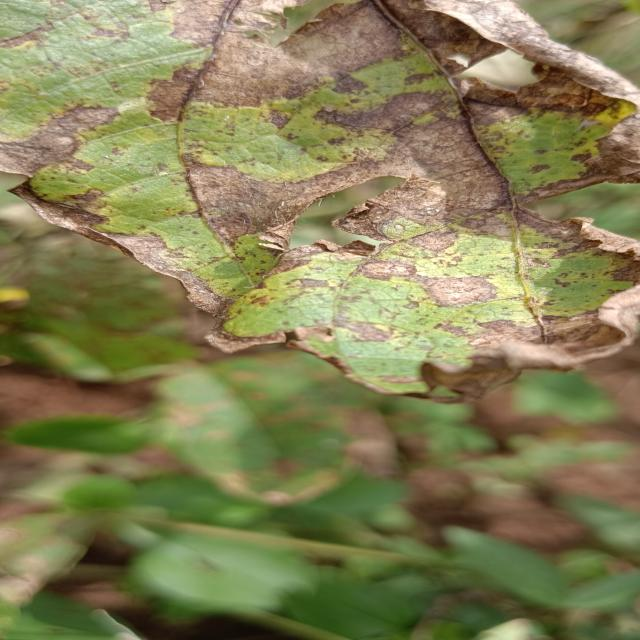Black gram_leaf spot: (0, 0, 640, 412), (0, 200, 256, 380), (144, 354, 367, 500)
